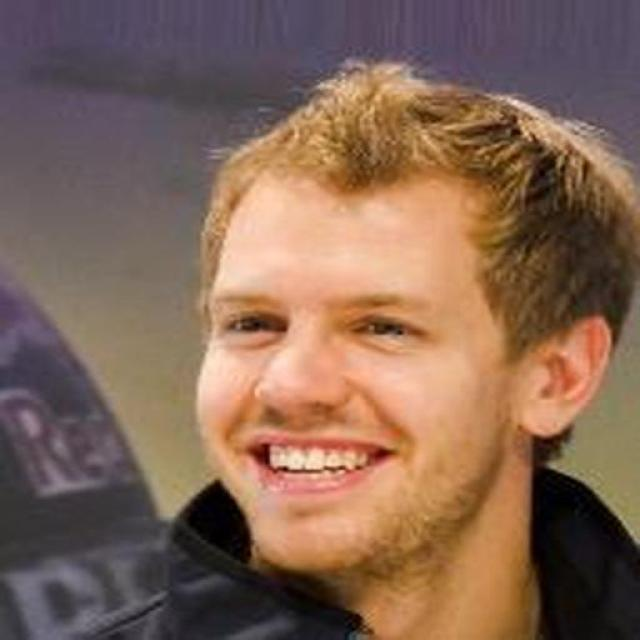bareface: (202, 101, 640, 564)
